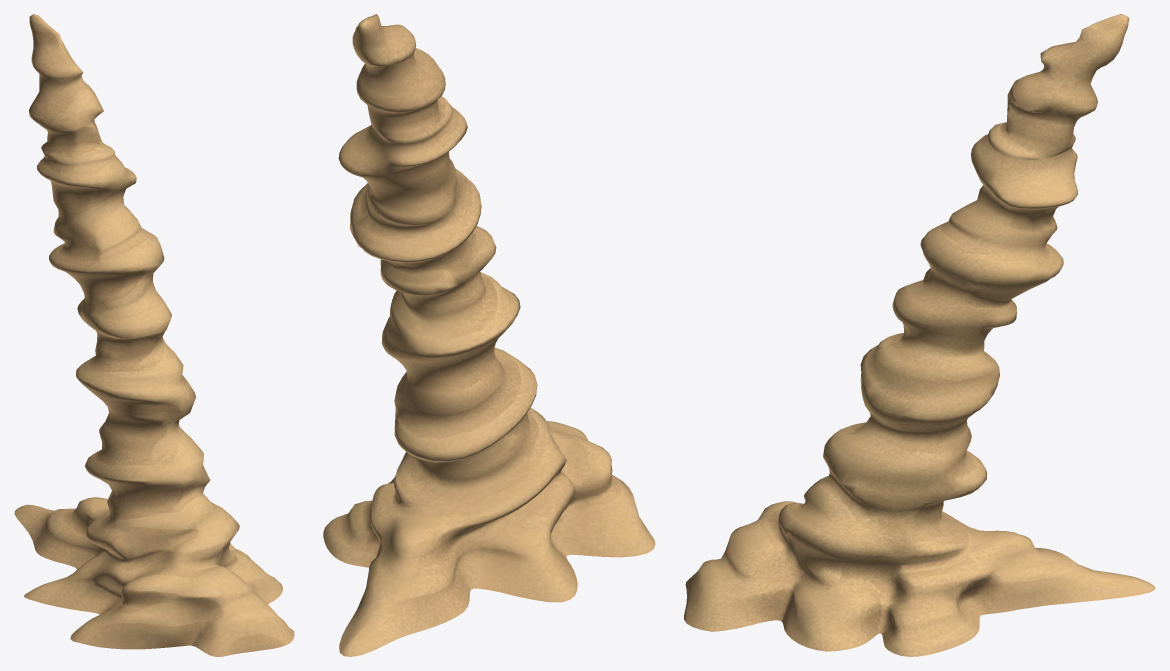
The model's file is tripo_convert_05bd876b-4f64-4326-9dfc-b5c363ef96df.fbx.
The picture shows the model from 3 angles, left to right: view 1: azimuth 30°, elevation 25°; view 2: azimuth 150°, elevation 25°; view 3: azimuth 270°, elevation 25°; orthographic projection. The views are drawn at different scales.
Parts seen in each view (by area): view 1: tripo_node_05bd876b; view 2: tripo_node_05bd876b; view 3: tripo_node_05bd876b.
Boxes of the visible parts, x1,y1,x2,y2 form: tripo_node_05bd876b: (14, 14, 294, 656); tripo_node_05bd876b: (323, 14, 655, 656); tripo_node_05bd876b: (684, 14, 1155, 656).
Size of the model in its own units: 0.4556 by 0.9995 by 0.7437.
1 material, 1 textured.
